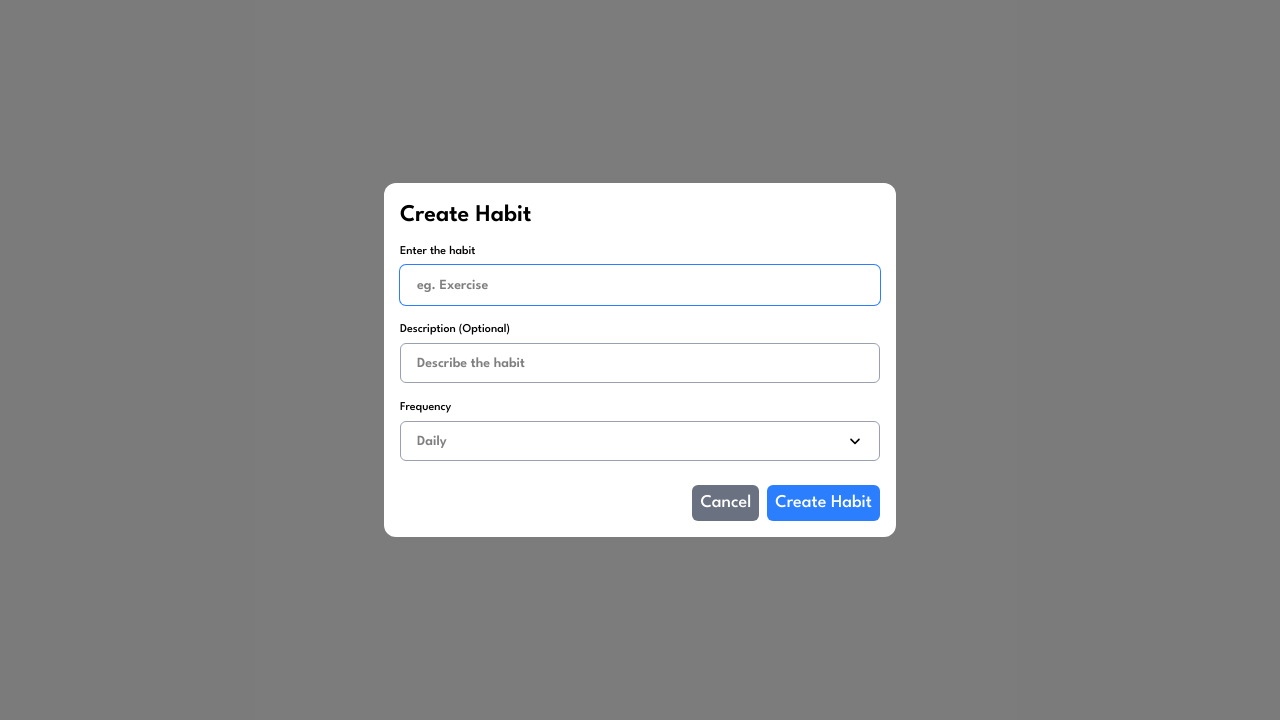
Test: habit form › shows a validation error when habit name is empty
Click the button with test id "habit-save-button" at (824, 503), box [767,485,880,521]
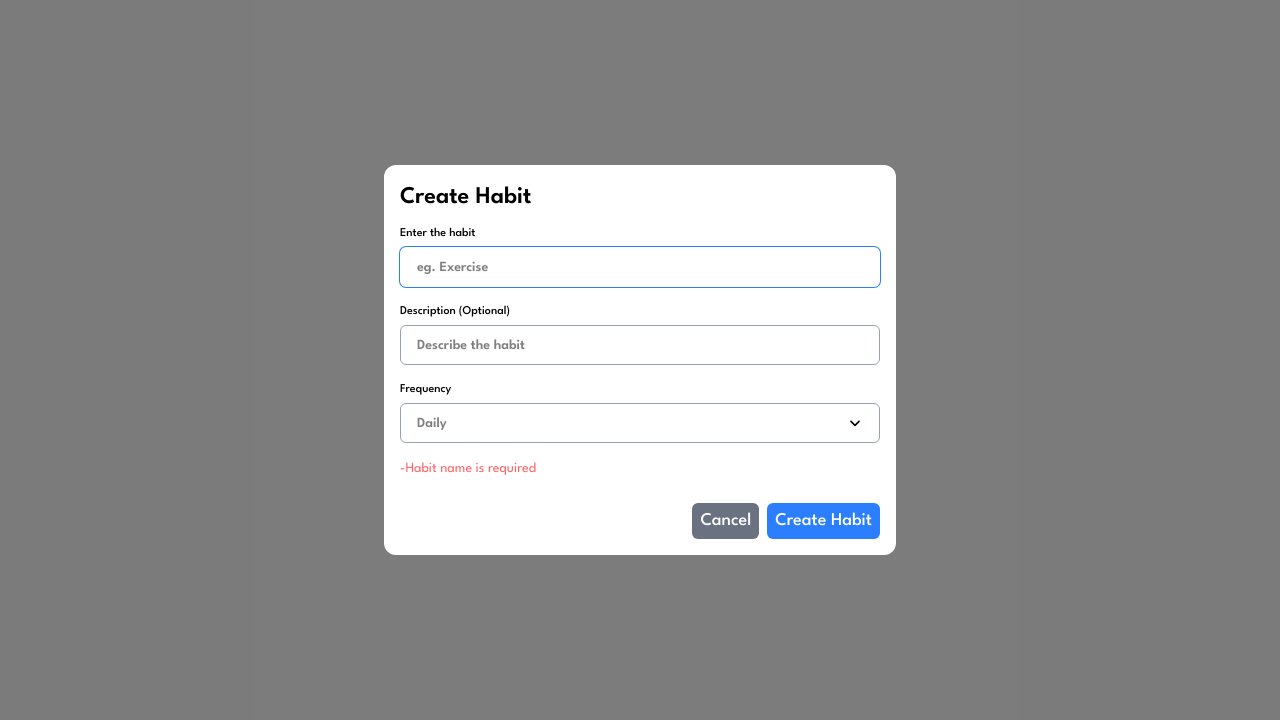
Now the text "-Habit name is required" is shown, box [400,462,536,475]
